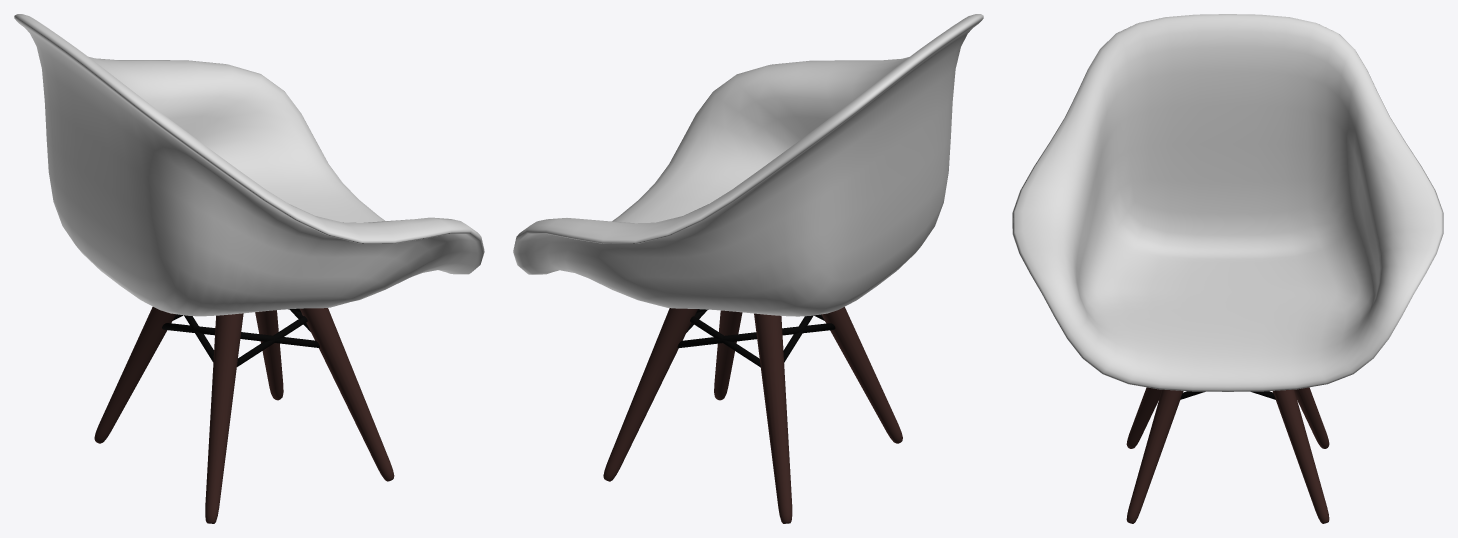
File: Modern Chair.fbx
The picture shows the model from 3 angles, left to right: view 1: azimuth 30°, elevation 25°; view 2: azimuth 150°, elevation 25°; view 3: azimuth 270°, elevation 25°; orthographic projection. The views are drawn at different scales.
Parts seen in each view (by area): view 1: Modern Chair; view 2: Modern Chair; view 3: Modern Chair.
Boxes of the visible parts, left/top/right/bottom form: Modern Chair: left=14, top=14, right=484, bottom=523; Modern Chair: left=513, top=14, right=983, bottom=523; Modern Chair: left=1012, top=14, right=1443, bottom=523.
Bounding box in the file's own units: 61.97 × 80.41 × 79.15.
